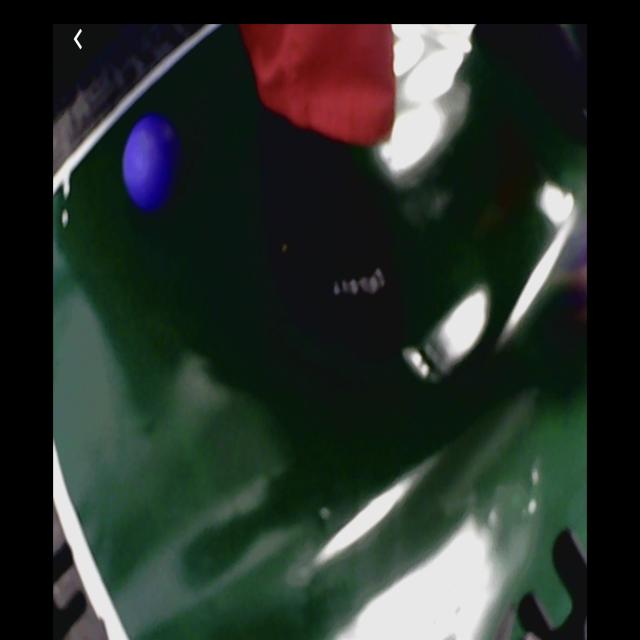ball: (123, 113, 180, 212)
